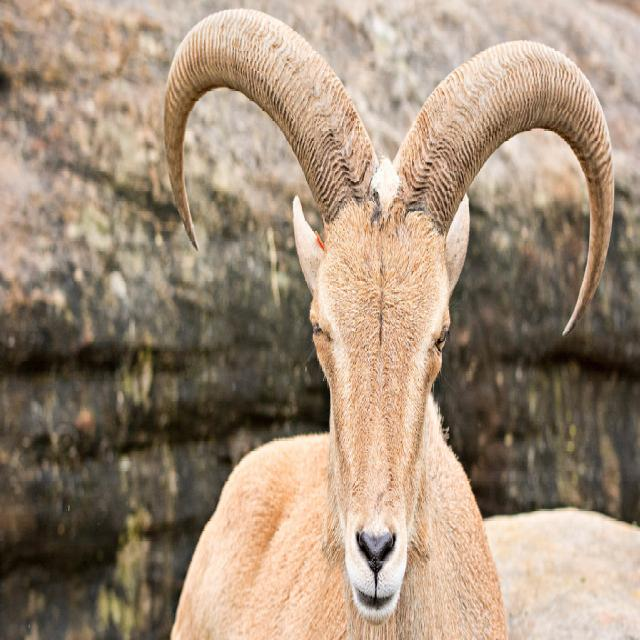Goat: (163, 8, 614, 640)
